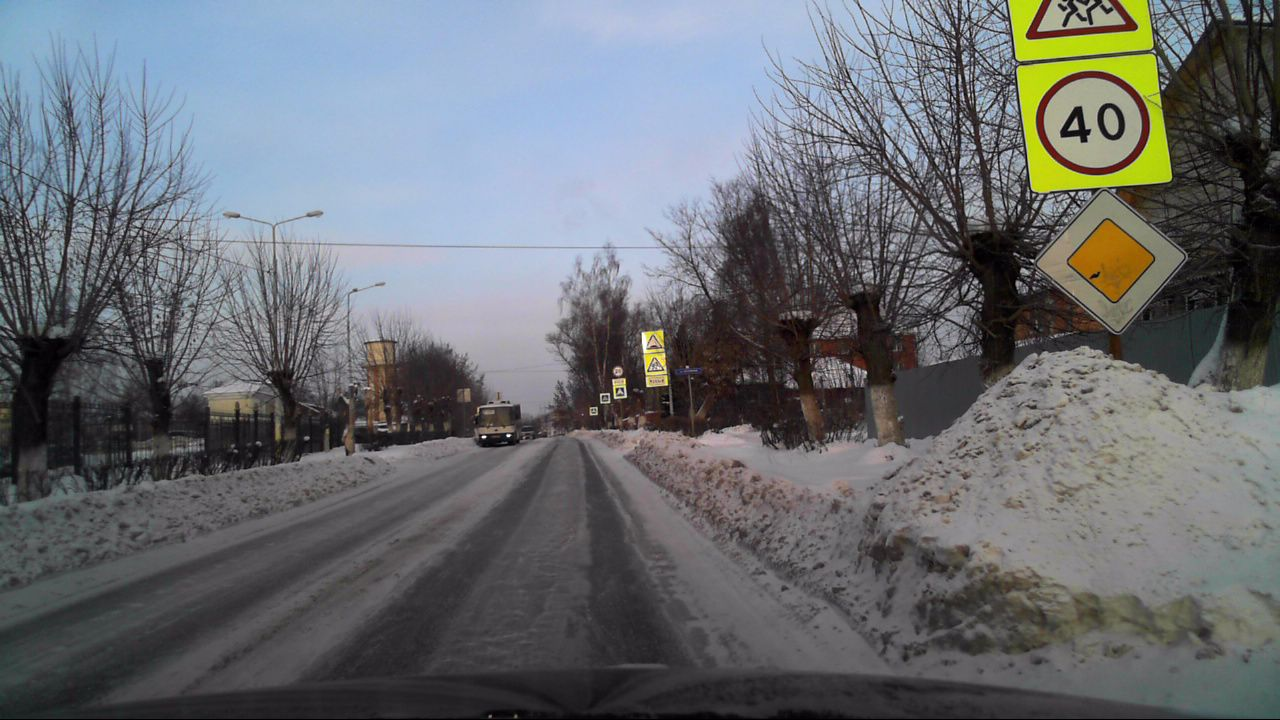speed_warning_40: (1017, 52, 1173, 193)
